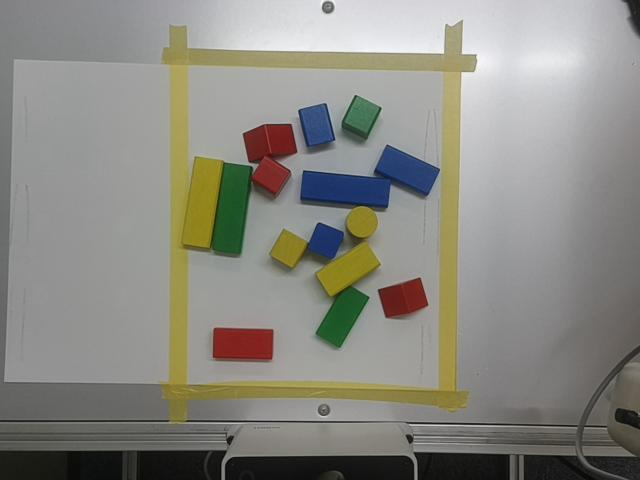blue_cube: (309, 223, 344, 258)
blue_longrect: (301, 171, 390, 207)
blue_rect: (375, 146, 440, 194)
cylinder: (348, 207, 377, 236)
green_cube: (341, 96, 381, 138)
green_longrect: (211, 163, 252, 254)
green_rect: (314, 287, 369, 348)
half_cylinder: (300, 104, 334, 144)
red_cube: (252, 157, 290, 193)
red_rect: (214, 330, 273, 359)
triangle: (245, 125, 297, 162), (379, 279, 428, 318)
yellow_cube: (270, 230, 308, 268)
yellow_longrect: (181, 157, 223, 248)
yelow_rect: (316, 242, 380, 296)
